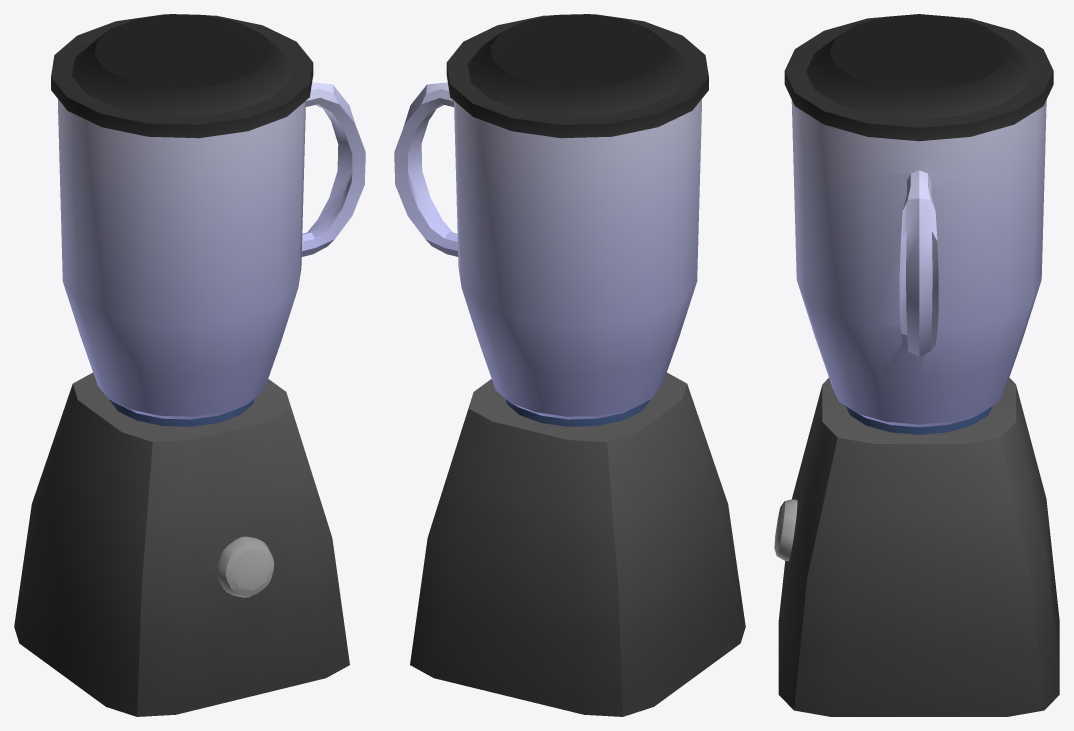
File: bLENDER.fbx
The picture shows the model from 3 angles, left to right: view 1: azimuth 30°, elevation 25°; view 2: azimuth 150°, elevation 25°; view 3: azimuth 270°, elevation 25°; orthographic projection.
Visible parts, largest first — view 1: Cube; view 2: Cube; view 3: Cube.
Boxes of the visible parts, box(x1,y1,x2,y2) form: Cube: box(14, 14, 365, 716); Cube: box(394, 14, 745, 716); Cube: box(774, 14, 1059, 716).
Size of the model in its own units: 104 by 199 by 84.9.
2 materials, 2 textured.
